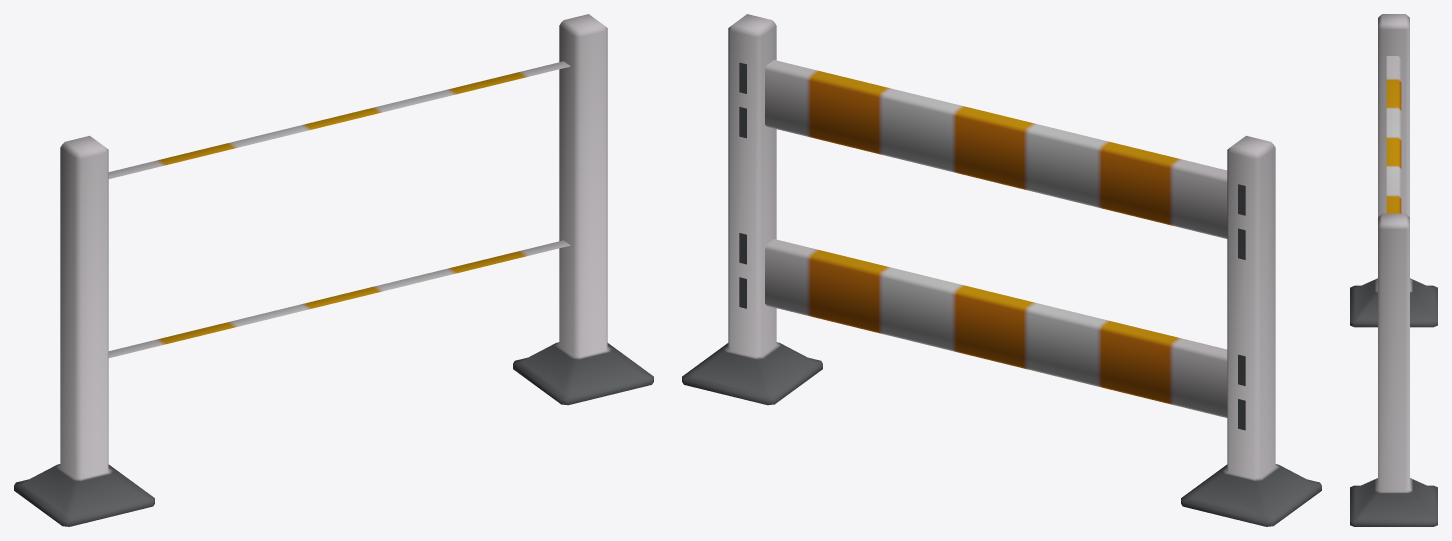
Rendered from RoadWorksBarrier02.glb.
3 renders of one model, left to right at view 1: azimuth 30°, elevation 25°; view 2: azimuth 150°, elevation 25°; view 3: azimuth 270°, elevation 25°, orthographic. The views are drawn at different scales.
Visible parts, largest first — view 1: RoadWorksBarrier02; view 2: RoadWorksBarrier02; view 3: RoadWorksBarrier02.
Boxes of the visible parts, <box> form: RoadWorksBarrier02: <box>14,14,653,526</box>; RoadWorksBarrier02: <box>682,14,1321,526</box>; RoadWorksBarrier02: <box>1350,14,1437,526</box>.
Bounding box in the file's own units: 2.72 × 1.55 × 0.4257.
